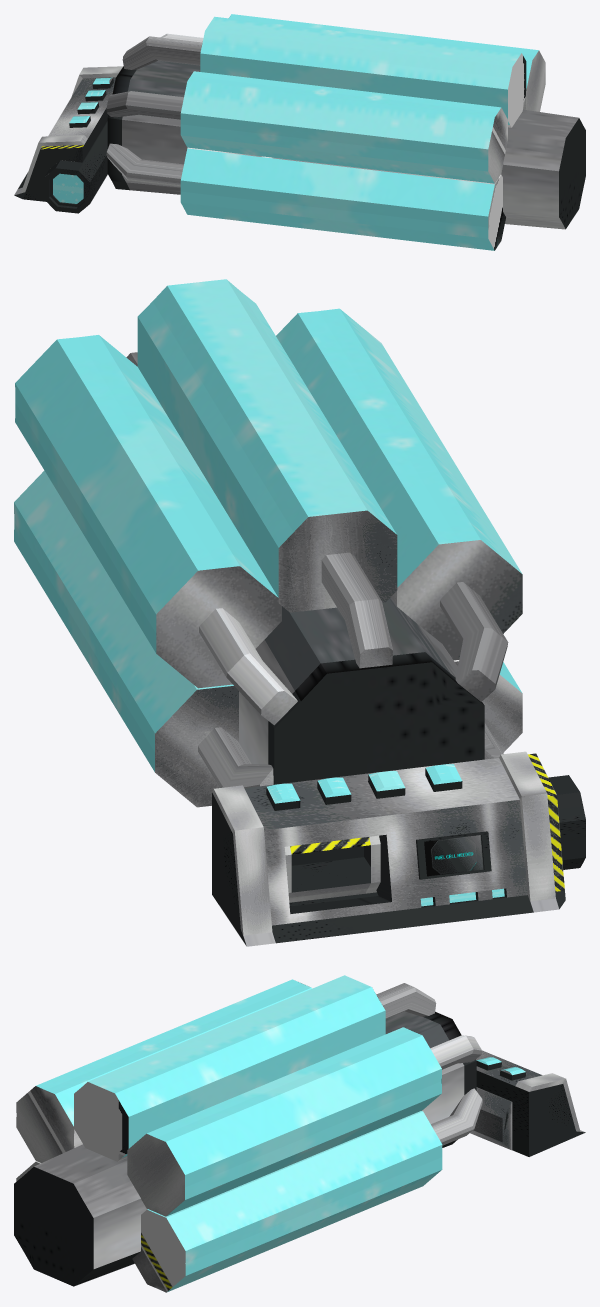
File: Generator.fbx
3 views of the same model, one above another, from view 1: azimuth 30°, elevation 25°; view 2: azimuth 150°, elevation 25°; view 3: azimuth 270°, elevation 25° (orthographic). The views are drawn at different scales.
Parts seen in each view (by area): view 1: Cube.082, Cube.083, Cube.080, Cube.084, Cube.098, Cube.097, Cube.081; view 2: Cube.098, Cube.081, Cube.080, Cube.082, Cube.084, Cube.085, Cube.097, Cube.083; view 3: Cube.081, Cube.080, Cube.085, Cube.084, Cube.082, Cube.098, Cube.097.
Part boxes in pixels (box(x1,y1,x2,y2)): Cube.082: box(106, 71, 507, 183); Cube.083: box(106, 143, 505, 250); Cube.080: box(122, 16, 526, 127); Cube.084: box(107, 60, 585, 229); Cube.098: box(14, 66, 122, 201); Cube.097: box(44, 121, 107, 213); Cube.081: box(160, 14, 545, 111); Cube.098: box(212, 751, 565, 946); Cube.081: box(15, 335, 297, 725); Cube.080: box(137, 279, 397, 668); Cube.082: box(276, 308, 522, 701); Cube.084: box(126, 352, 484, 784); Cube.085: box(14, 470, 273, 807); Cube.097: box(284, 775, 585, 902); Cube.083: box(454, 660, 522, 759); Cube.081: box(127, 1027, 482, 1216); Cube.080: box(74, 975, 436, 1161); Cube.085: box(132, 1088, 482, 1292); Cube.084: box(14, 1011, 476, 1286); Cube.082: box(16, 979, 311, 1162); Cube.098: box(476, 1050, 585, 1156); Cube.097: box(470, 1087, 512, 1150).
Size of the model in its own units: 7970 by 2942 by 8342.
